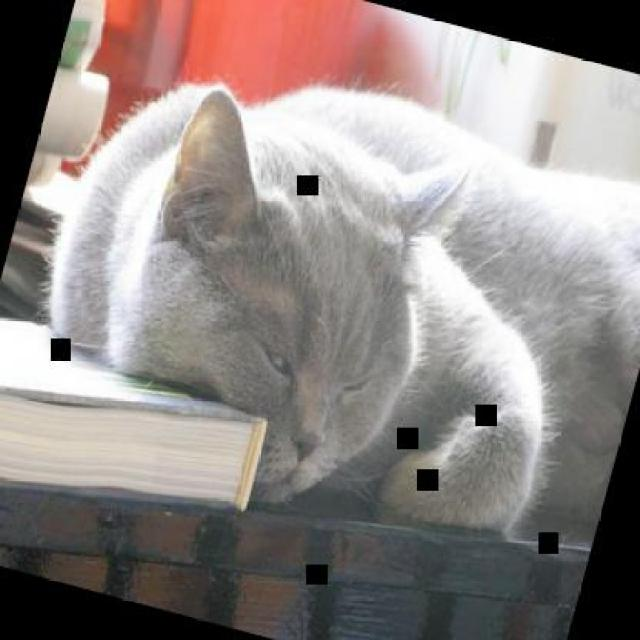cat: (1, 21, 638, 594)
